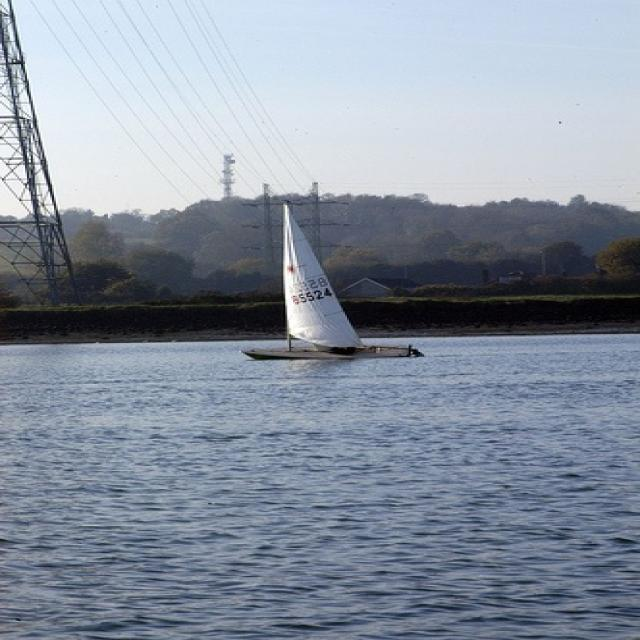boat: (241, 202, 412, 362)
